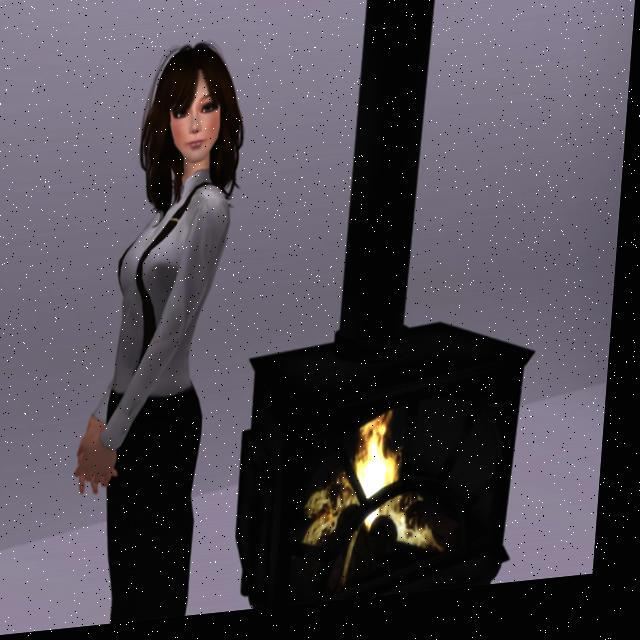Fire: (306, 418, 464, 566)
